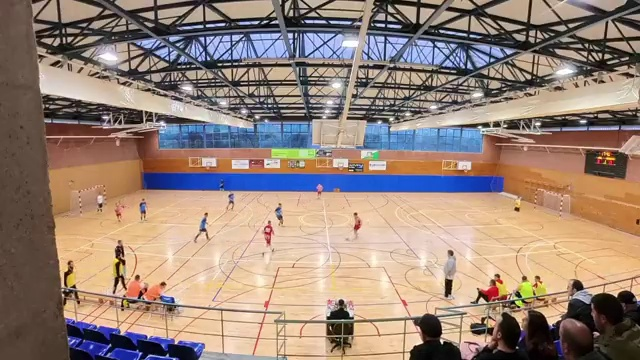players blue shirt: (194, 213, 209, 241), (275, 203, 283, 225), (139, 198, 146, 220), (226, 192, 234, 210)
players red shirt: (263, 220, 274, 255), (353, 212, 361, 238), (114, 202, 124, 221), (316, 184, 323, 198)
